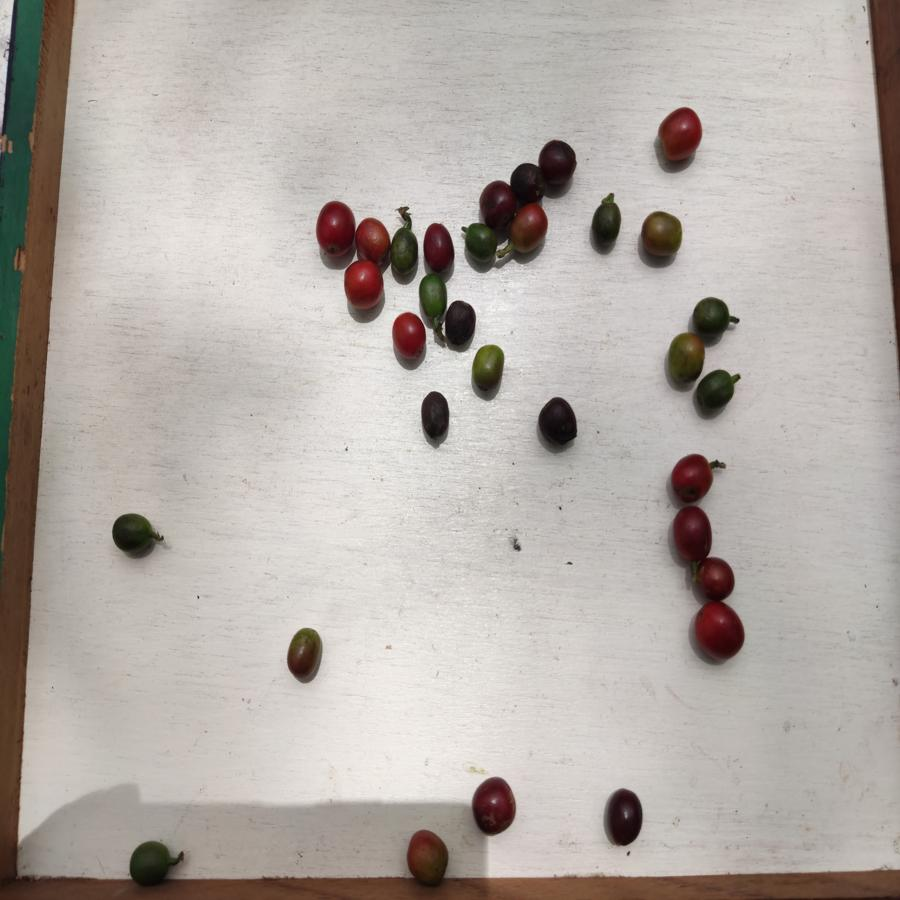Inmaduro: (128, 840, 173, 887), (111, 514, 158, 556), (698, 368, 738, 411), (460, 223, 499, 267), (388, 227, 421, 275), (591, 200, 623, 247), (691, 298, 730, 334), (420, 272, 449, 319)
Maduro: (695, 597, 745, 661), (658, 107, 703, 163), (673, 451, 719, 503), (343, 259, 384, 313), (316, 201, 355, 256), (351, 215, 393, 261), (390, 314, 429, 358)
Pinton: (407, 825, 451, 889), (640, 210, 685, 259), (286, 628, 326, 683), (509, 203, 550, 254), (666, 331, 704, 384), (472, 342, 510, 392)
Sobremaduro: (472, 773, 520, 837), (672, 506, 713, 561), (607, 787, 645, 845), (536, 137, 576, 191), (540, 394, 580, 445), (478, 179, 516, 225), (696, 556, 734, 600), (424, 222, 455, 271), (445, 302, 477, 346), (422, 390, 450, 439), (507, 163, 542, 198)
